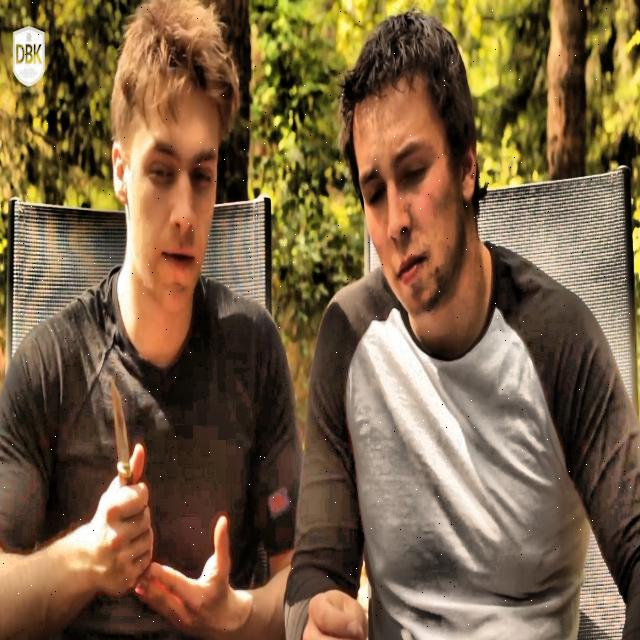knife: (110, 380, 134, 492)
